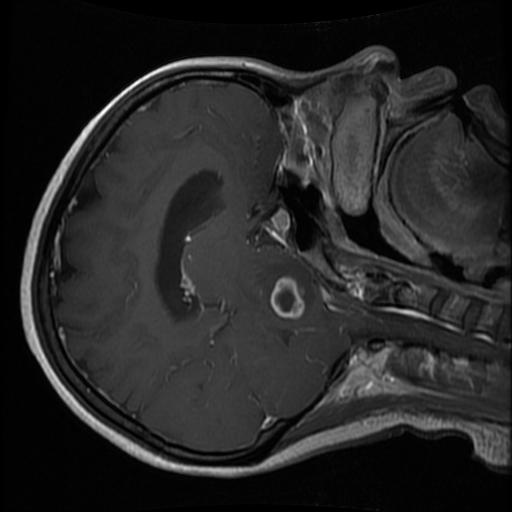glioma: (268, 274, 306, 322)
